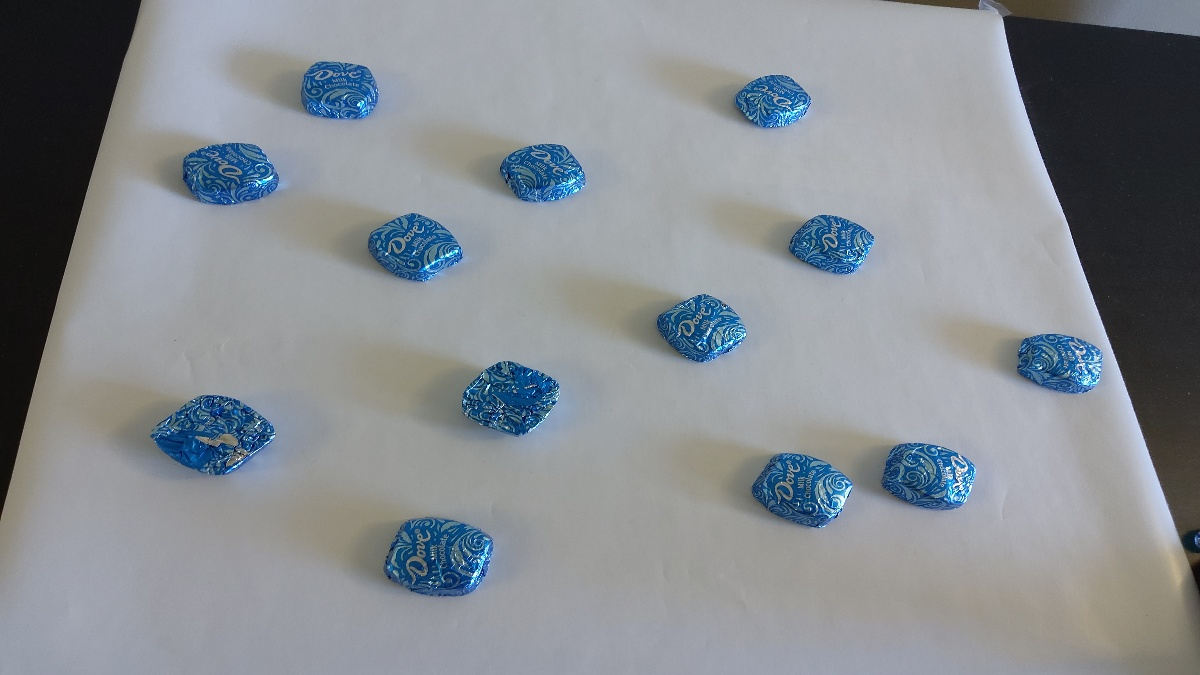chocolate_blue: (377, 506, 507, 602), (439, 351, 572, 442), (158, 386, 276, 487), (744, 447, 860, 531), (360, 207, 472, 292), (877, 431, 979, 519), (173, 135, 284, 215), (651, 284, 748, 374), (784, 206, 888, 282), (1008, 327, 1108, 406), (495, 136, 591, 204), (292, 55, 382, 126), (727, 72, 820, 132)
